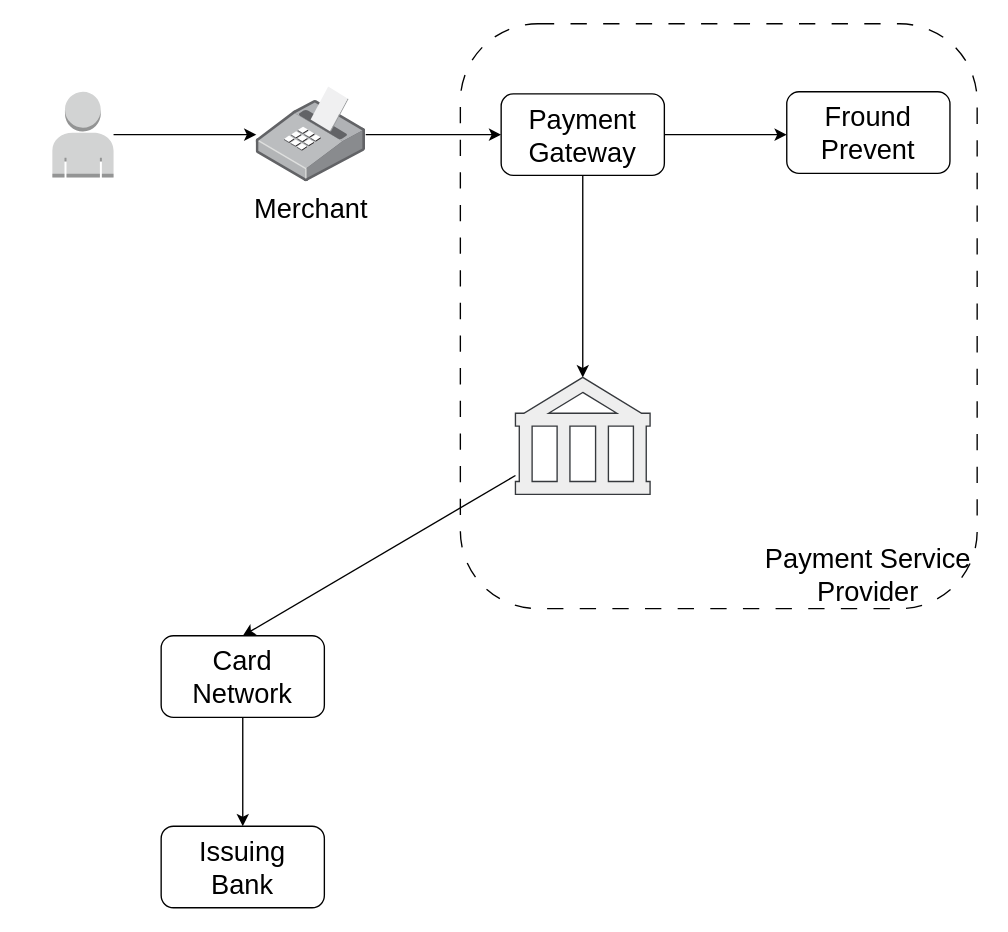
The diagram is 1008 pixels wide and 932 high, and some of its shapes have lost their labels. Each missing label, with the centre of its shape:
"Acquiring Bank" belongs at [582,435].
"Customer" belongs at [82,133].
